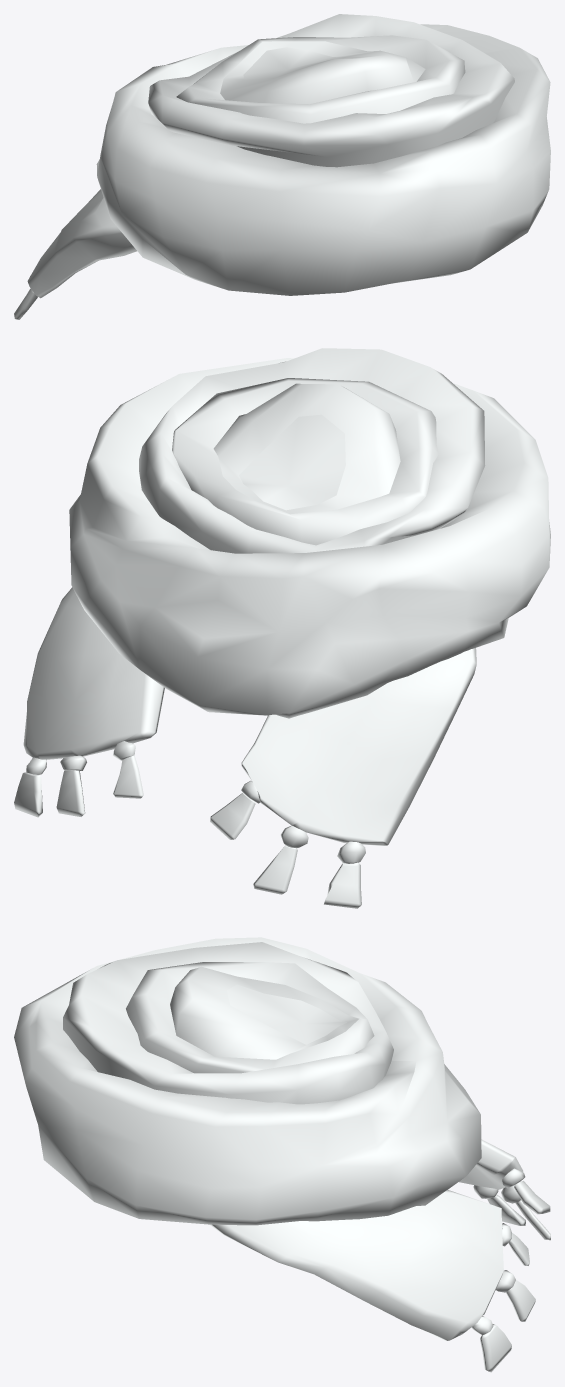
Rendered from Prop_SnowmanScarf.glb.
The picture shows the model from 3 angles, top to bottom: view 1: azimuth 30°, elevation 25°; view 2: azimuth 150°, elevation 25°; view 3: azimuth 270°, elevation 25°; orthographic projection. The views are drawn at different scales.
Parts seen in each view (by area): view 1: Prop_SnowmanScarf; view 2: Prop_SnowmanScarf; view 3: Prop_SnowmanScarf.
Part boxes in pixels (left/top/right/bottom): Prop_SnowmanScarf: left=14, top=14, right=550, bottom=319; Prop_SnowmanScarf: left=14, top=348, right=550, bottom=908; Prop_SnowmanScarf: left=14, top=937, right=550, bottom=1372.
Bounding box in the file's own units: 0.5149 × 0.4034 × 0.5979.
Materials: 1 (1 with a texture image).
